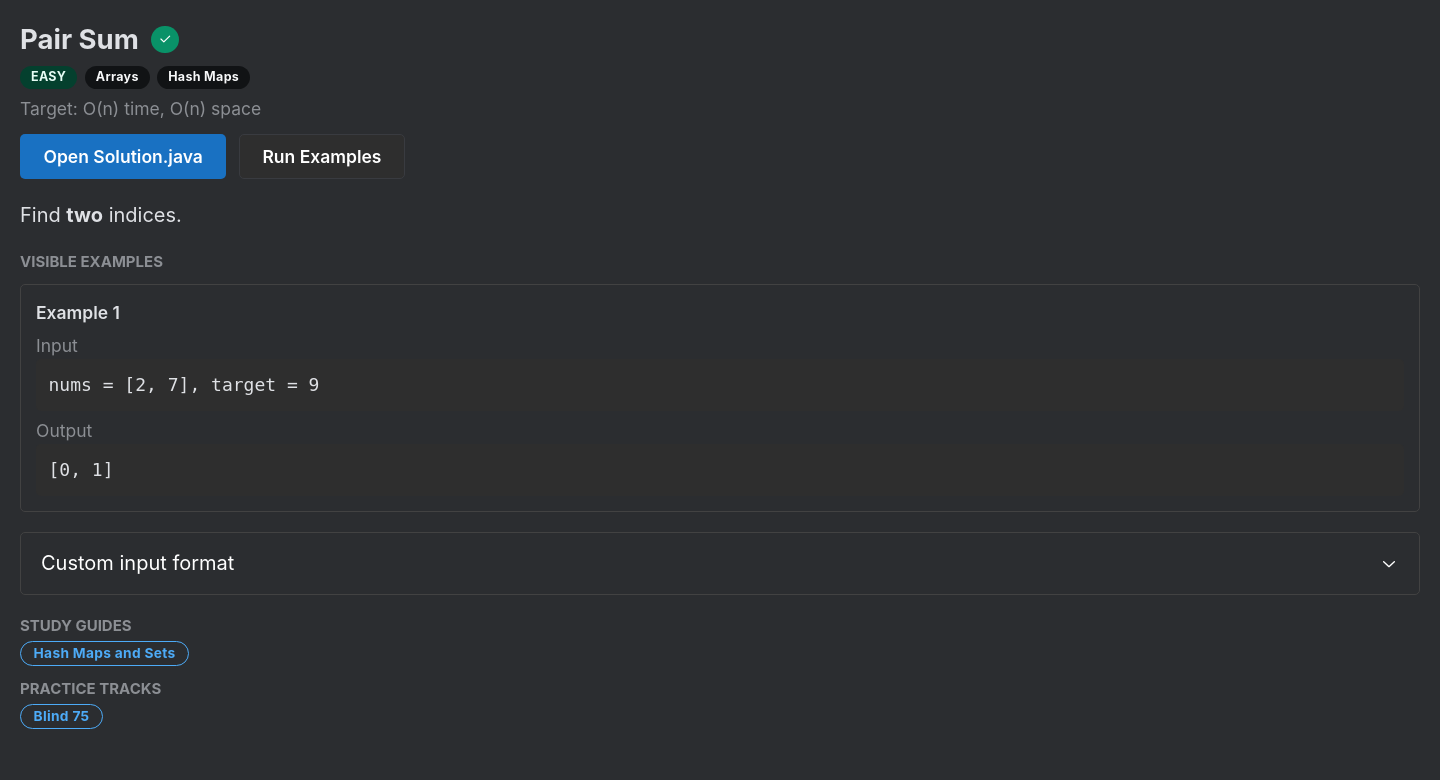
it: App › renders problem metadata, resets accordion state across exercises, and forwards badge clicks
The image size is (1440, 780).
Later steps or results of the test are not shown.
expect the heading "Pair Sum" is shown: met, box [20,20,139,58]
expect the text "Arrays" is shown: met, box [96,67,139,87]
Click the button "Custom input format" at (138, 562), box [21,532,1419,594]
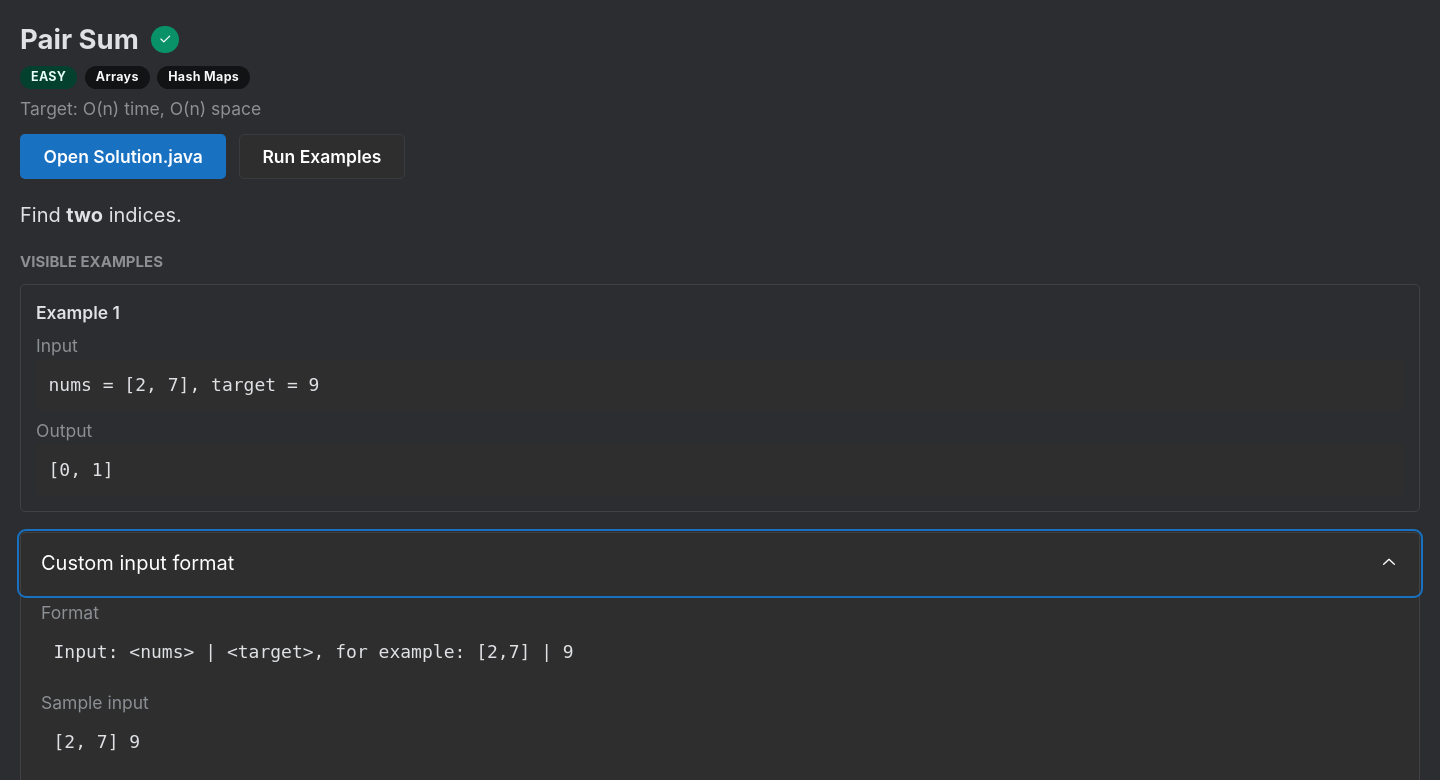
expect the button "Custom input format" is expanded: met, box [21,532,1419,594]
